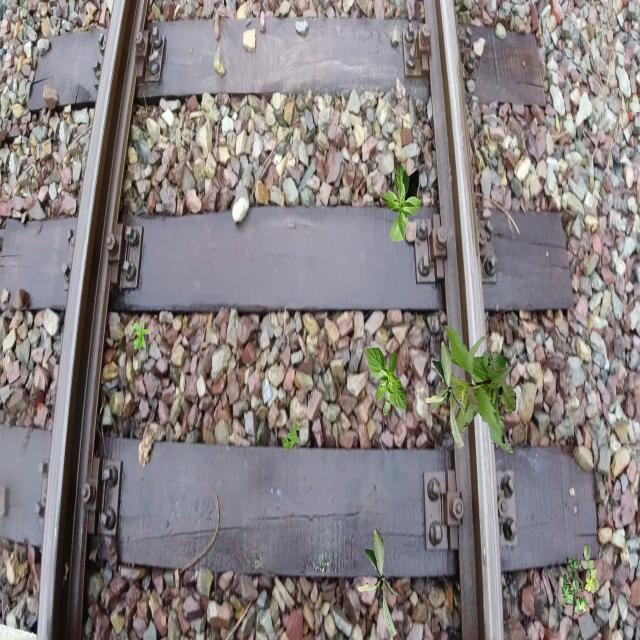Plant: (428, 325, 516, 455), (358, 528, 398, 638), (425, 340, 465, 450), (380, 162, 422, 242), (366, 345, 408, 416), (562, 543, 600, 616), (282, 421, 302, 454), (134, 320, 152, 352)
